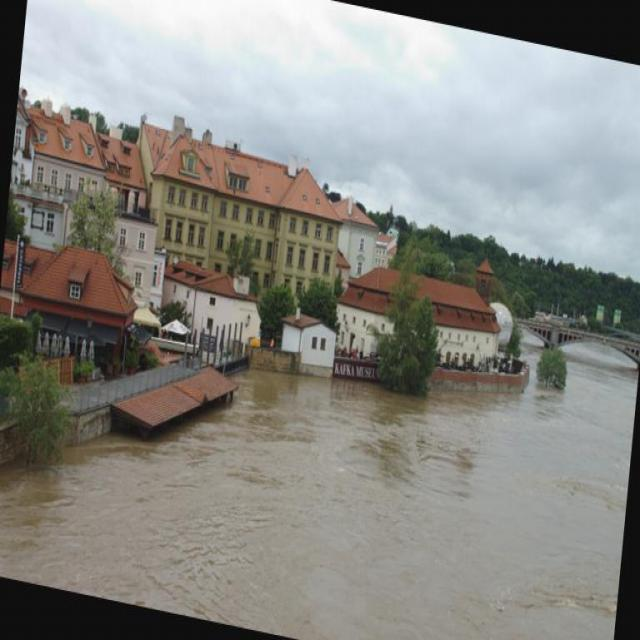flood: (0, 295, 633, 638)
